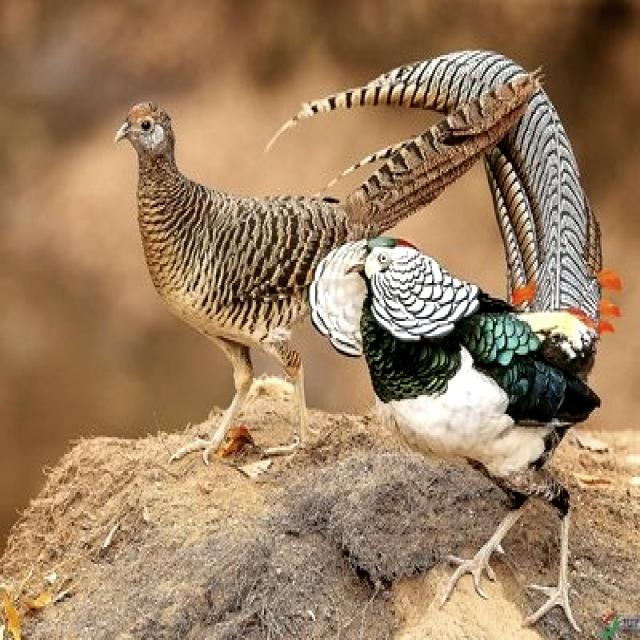Chrysolophus amherstiae: (342, 74, 538, 237), (485, 87, 598, 317), (294, 51, 528, 123)
